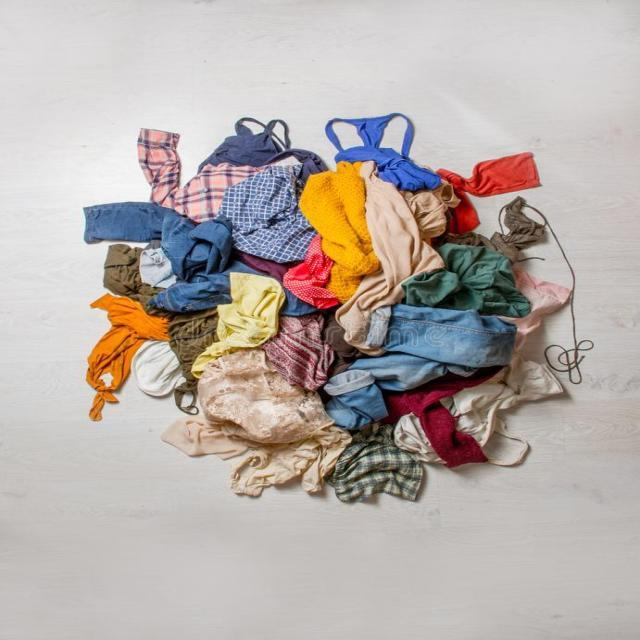clothes: (34, 119, 626, 548)
